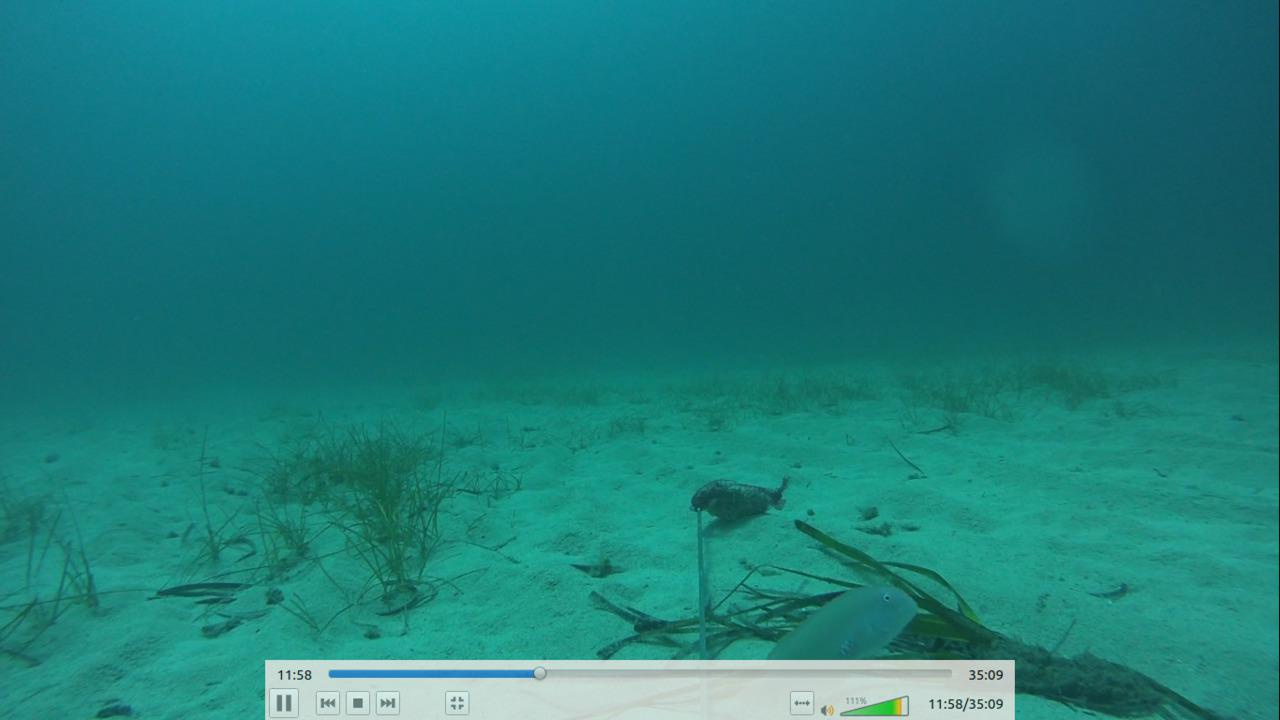raor: (767, 575, 928, 655)
